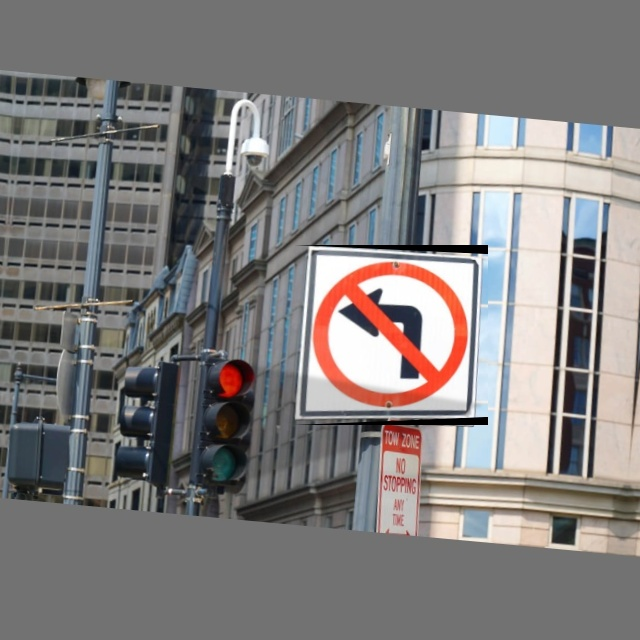Left_Turn_Prohibited: (294, 245, 488, 425)
